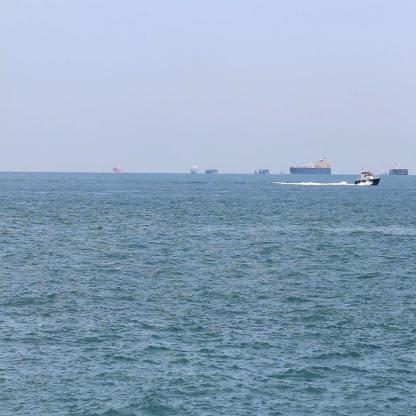Container Ship: (290, 152, 332, 174), (387, 160, 409, 176), (112, 161, 122, 174), (204, 167, 218, 174), (190, 162, 198, 174), (377, 169, 388, 177), (277, 166, 285, 176), (257, 168, 270, 174), (253, 167, 258, 174)
